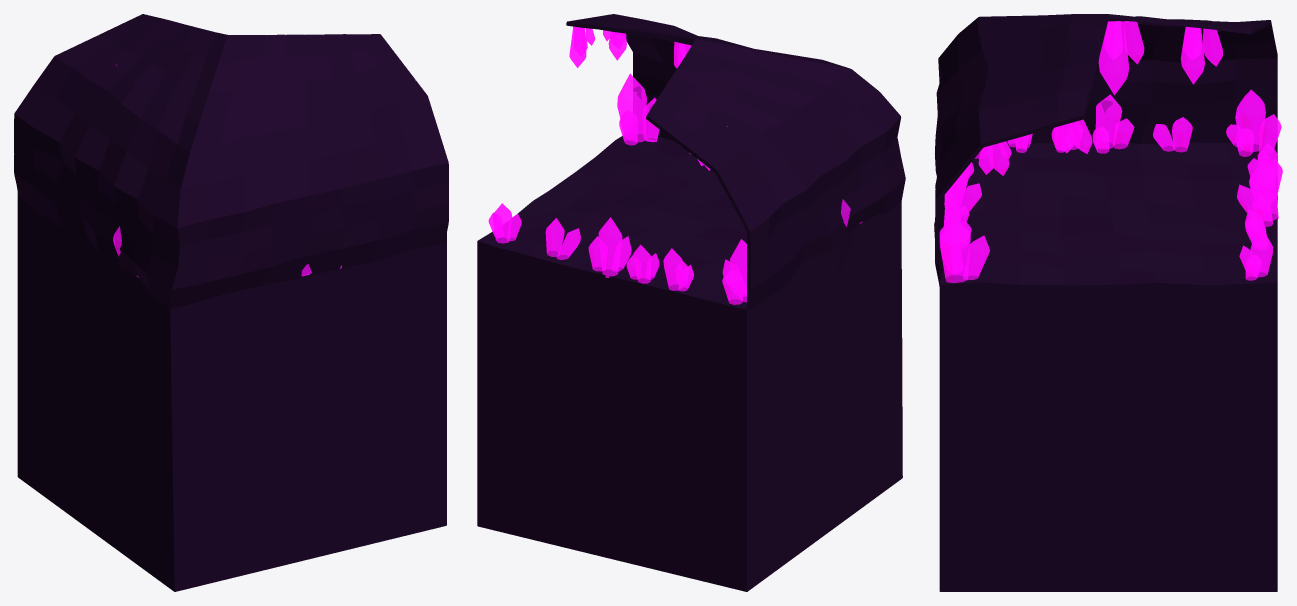
Rendered from NidoStargor.glb.
The picture shows the model from 3 angles, left to right: view 1: azimuth 30°, elevation 25°; view 2: azimuth 150°, elevation 25°; view 3: azimuth 270°, elevation 25°; orthographic projection. The views are drawn at different scales.
Parts seen in each view (by area): view 1: Cubo; view 2: Cubo, Círculo.011, Círculo.051, Círculo.004, Círculo.045, Círculo.008, Círculo.006, Círculo.048, Círculo.055, Círculo.017; view 3: Cubo, Círculo.011, Círculo.001, Círculo.004, Círculo.051, Círculo.058, Círculo.029, Círculo.012, Círculo.008, Círculo.003, Círculo.060, Círculo.033 (+4 smaller).
Boxes of the visible parts, <box> form: Cubo: <box>14,14,448,591</box>; Cubo: <box>477,14,905,591</box>; Círculo.011: <box>617,73,646,142</box>; Círculo.051: <box>598,217,622,277</box>; Círculo.004: <box>730,239,746,302</box>; Círculo.045: <box>663,248,682,290</box>; Círculo.008: <box>492,203,511,243</box>; Círculo.006: <box>722,269,743,304</box>; Círculo.048: <box>632,244,651,283</box>; Círculo.055: <box>545,218,564,256</box>; Círculo.017: <box>569,26,586,67</box>; Cubo: <box>934,14,1277,591</box>; Círculo.011: <box>939,216,970,283</box>; Círculo.001: <box>1098,21,1129,95</box>; Círculo.004: <box>1235,89,1265,152</box>; Círculo.051: <box>1249,164,1278,220</box>; Círculo.058: <box>1180,27,1204,84</box>; Círculo.029: <box>1095,94,1122,148</box>; Círculo.012: <box>963,235,989,280</box>; Círculo.008: <box>1250,232,1272,277</box>; Círculo.003: <box>1124,21,1144,64</box>; Círculo.060: <box>1203,28,1222,66</box>; Círculo.033: <box>1172,117,1192,152</box>.
Size of the model in its own units: 10.43 by 16.43 by 10.31.
